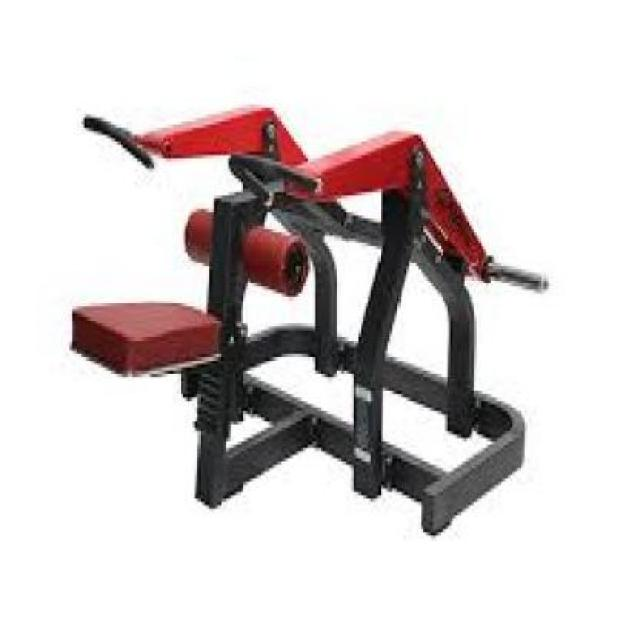seated dip machine: (69, 106, 554, 540)
